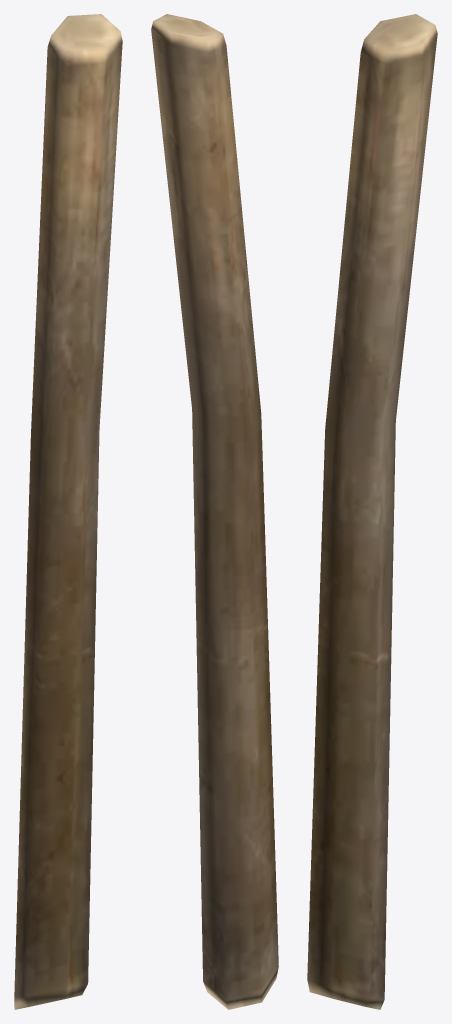
3 views of the same model, side by side, from view 1: azimuth 30°, elevation 25°; view 2: azimuth 150°, elevation 25°; view 3: azimuth 330°, elevation 25° (orthographic). The views are drawn at different scales.
Parts seen in each view (by area): view 1: SM_Garou_Set_SM_Spike_03_02_LOD0; view 2: SM_Garou_Set_SM_Spike_03_02_LOD0; view 3: SM_Garou_Set_SM_Spike_03_02_LOD0.
Part boxes in pixels (x1,y1,x2,y2): SM_Garou_Set_SM_Spike_03_02_LOD0: (14,14,122,1009); SM_Garou_Set_SM_Spike_03_02_LOD0: (151,14,278,1009); SM_Garou_Set_SM_Spike_03_02_LOD0: (307,14,437,1009).
Bounding box in the file's own units: 0.1192 × 1.07 × 0.0869.
1 material, 1 textured.
